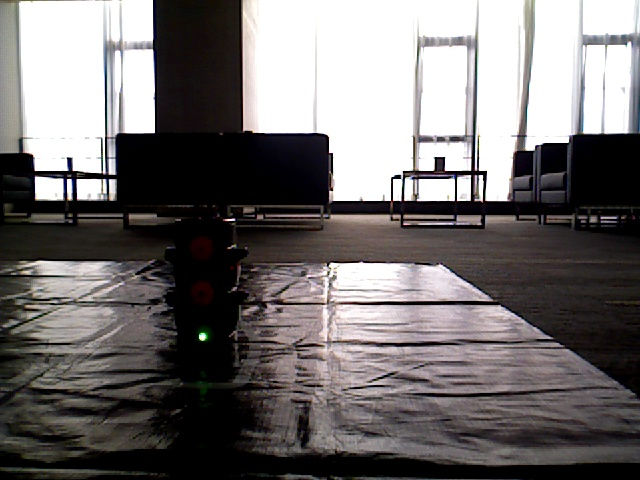green: (188, 225, 228, 343)
